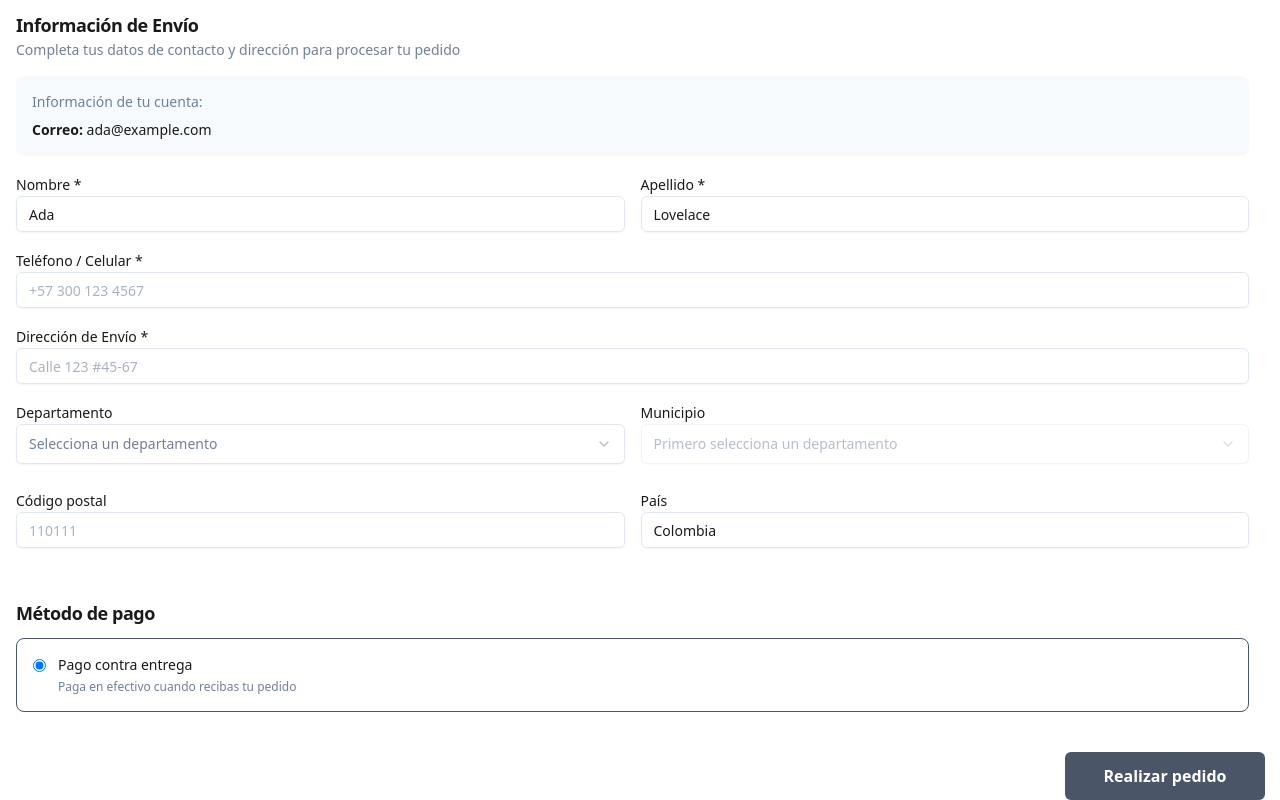
Test: AuthenticatedCheckoutForm field validation › blocks submit while no department/municipality is picked
Type "3001234567" into the field labelled "Teléfono / Celular *". click: (632, 290)
box: [16,272,1249,308]
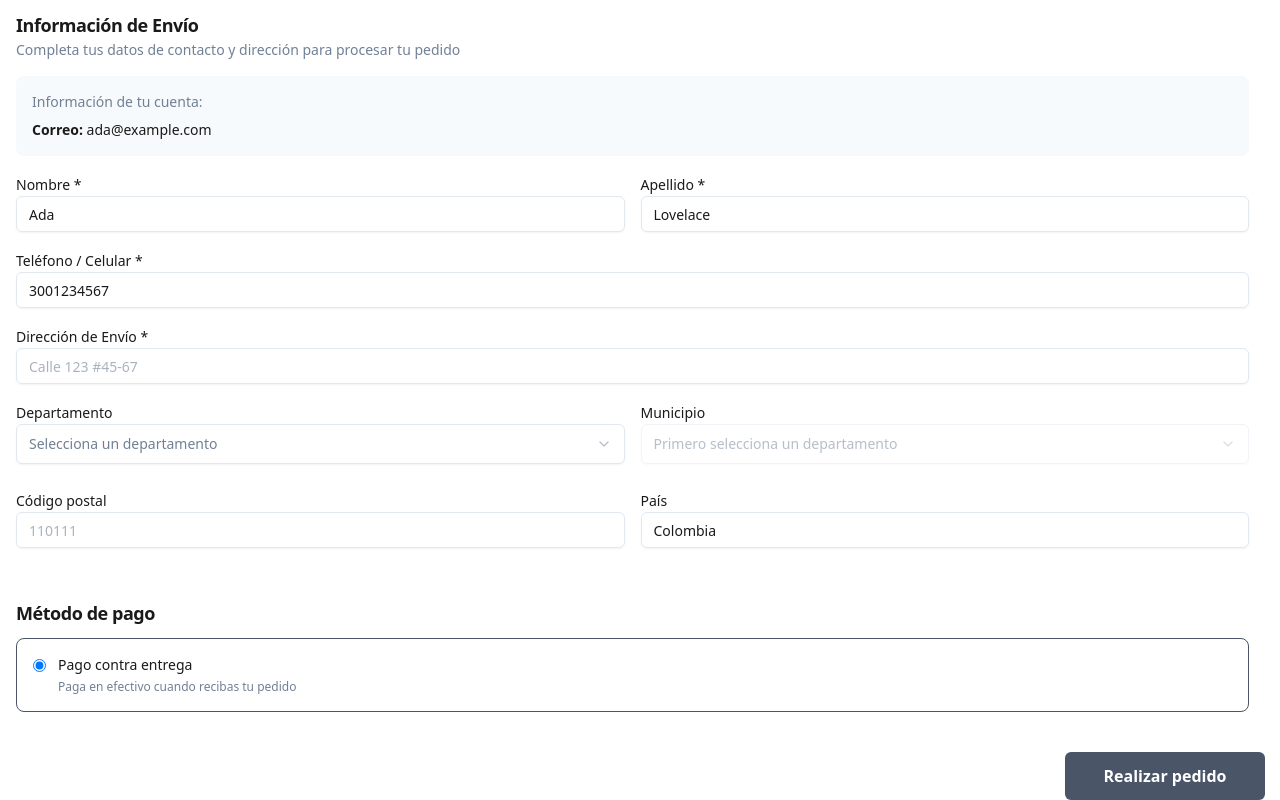
Type "Calle 123" into the field labelled "Dirección de Envío *". click: (632, 366)
box: [16,348,1249,384]
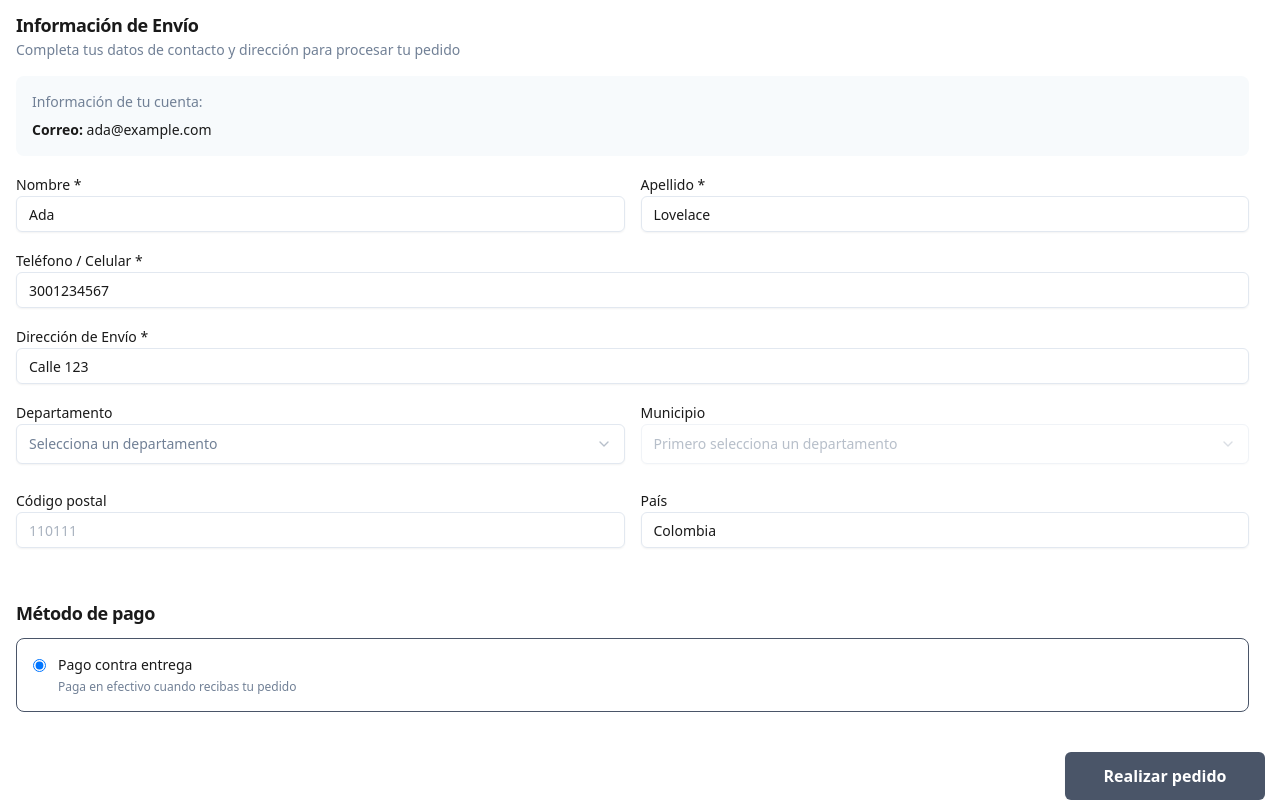
Click the button "Realizar pedido". click: (1165, 776)
box: [1065,752,1265,799]
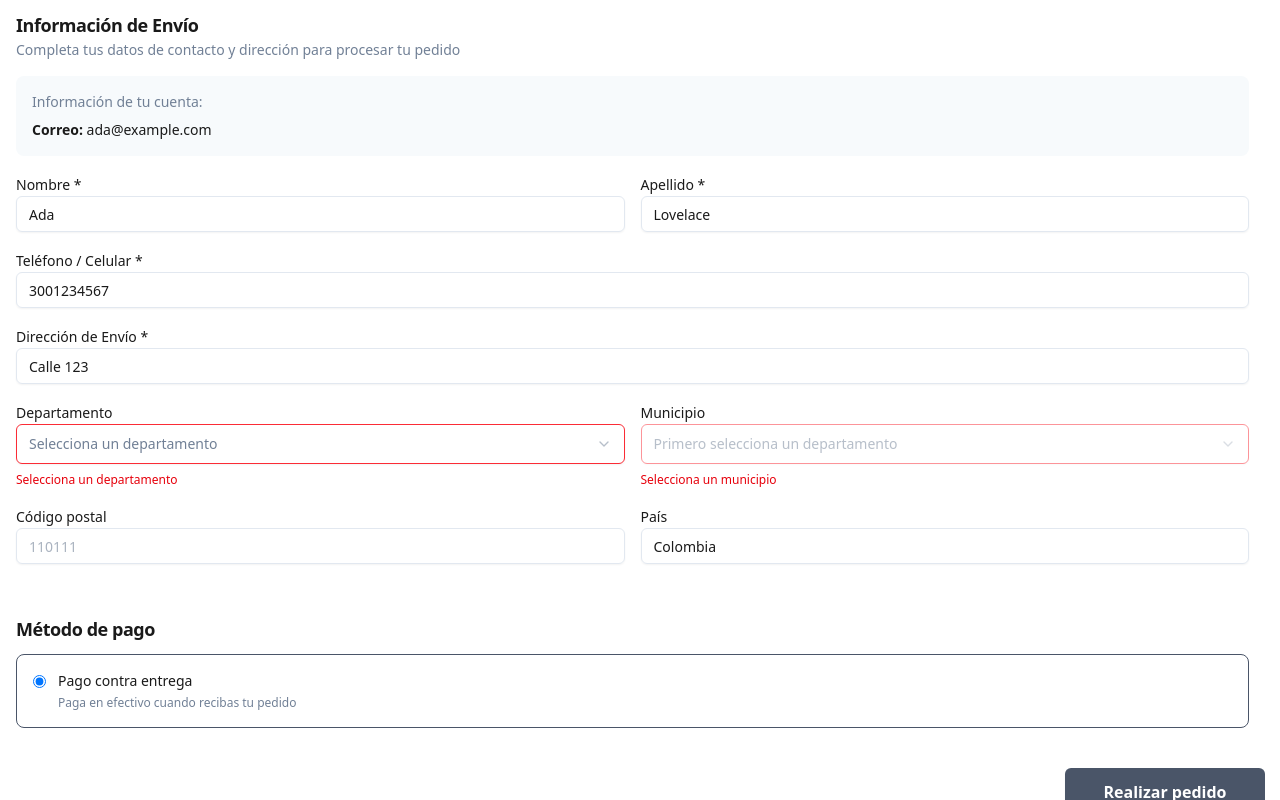
Expected: the text with id "shipping-department-error" reads "Selecciona un departamento", [16,471,178,488]
Expected: the text with id "shipping-municipality-error" reads "Selecciona un municipio", [640,471,777,488]
